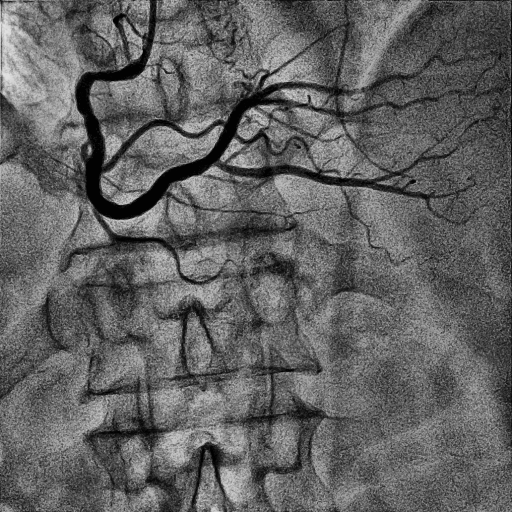pborca: (206, 54, 468, 157)
pda: (213, 143, 461, 219)
rca: (76, 57, 221, 220)
